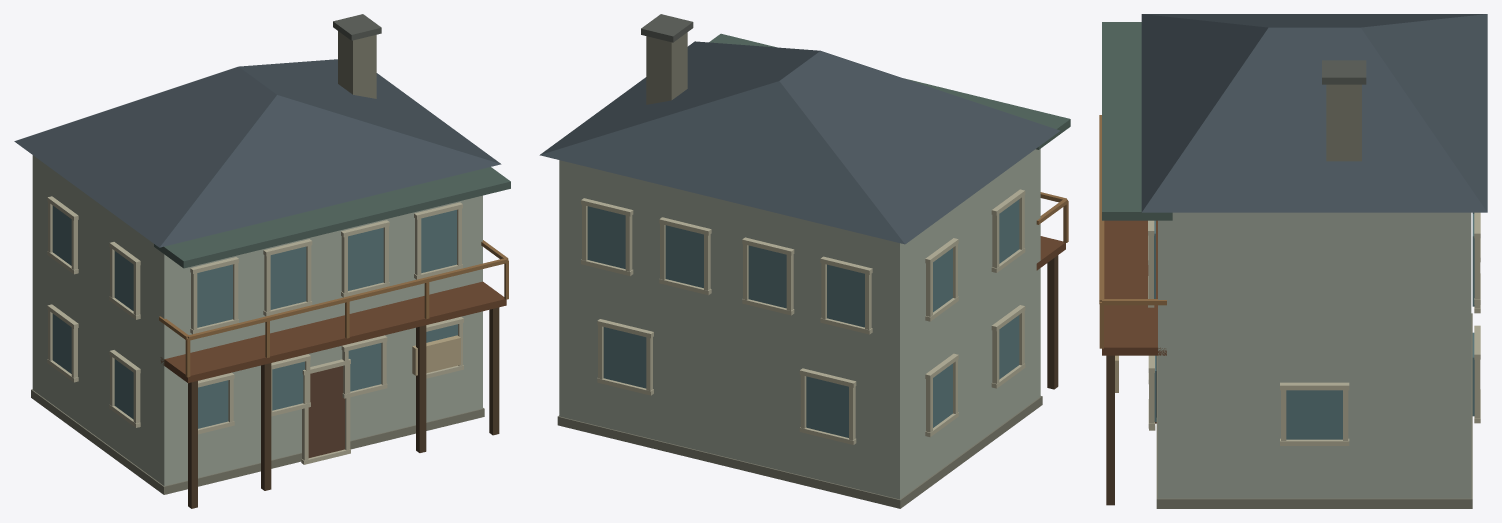
The model's file is Building_Settlement_GalleriedInn_001_LOD1.glb.
The picture shows the model from 3 angles, left to right: view 1: azimuth 30°, elevation 25°; view 2: azimuth 150°, elevation 25°; view 3: azimuth 270°, elevation 25°; orthographic projection. The views are drawn at different scales.
Parts seen in each view (by area): view 1: Building_Settlement_GalleriedInn_001_LOD1; view 2: Building_Settlement_GalleriedInn_001_LOD1; view 3: Building_Settlement_GalleriedInn_001_LOD1.
Boxes of the visible parts, x1=… form: Building_Settlement_GalleriedInn_001_LOD1: x1=14, y1=14, x2=510, y2=508; Building_Settlement_GalleriedInn_001_LOD1: x1=539, y1=14, x2=1070, y2=508; Building_Settlement_GalleriedInn_001_LOD1: x1=1099, y1=14, x2=1487, y2=508.
Bounding box in the file's own units: 7.95 × 7.71 × 6.56.
